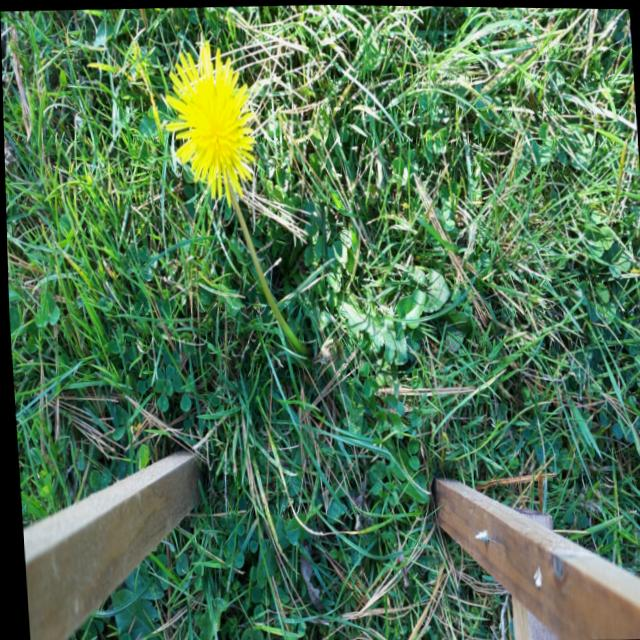base: (296, 331, 316, 367)
